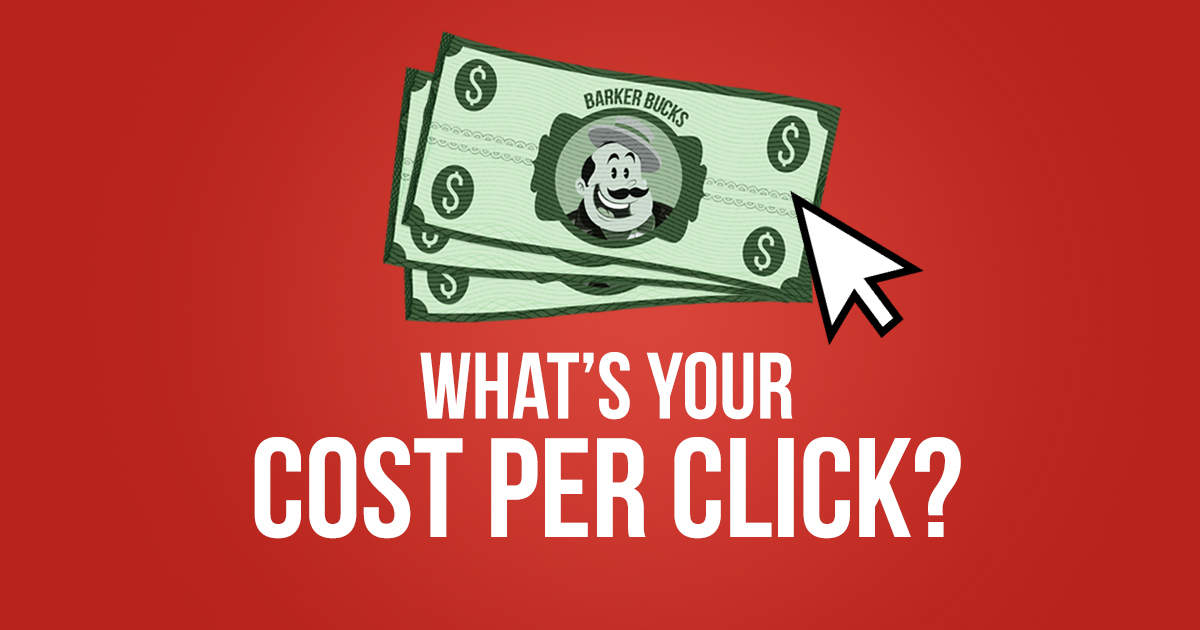latin: (248, 348, 970, 547)
